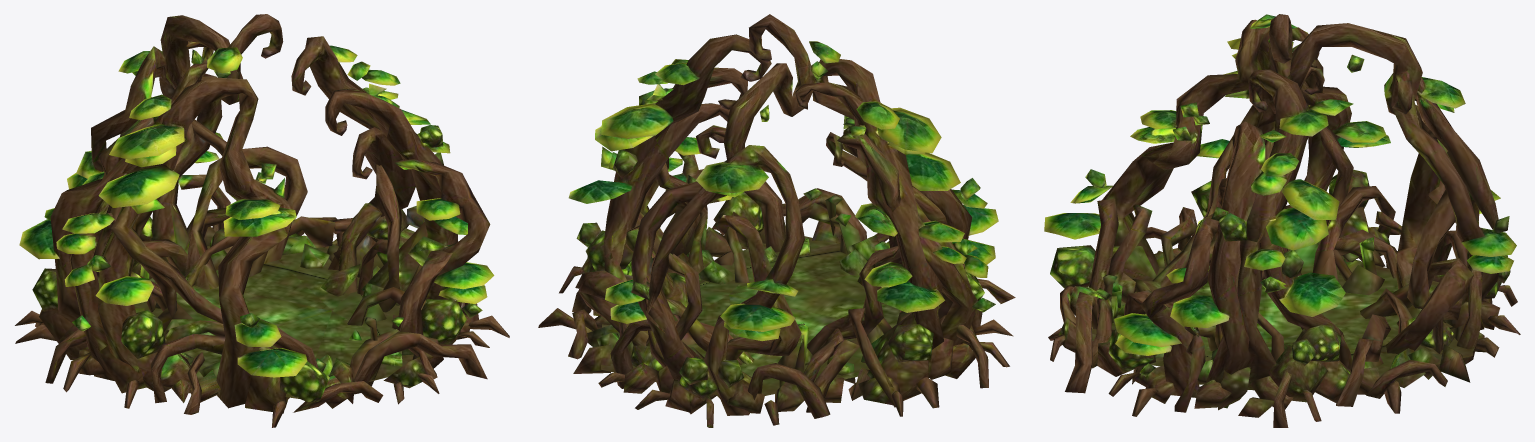
File: cage-2.glb
3 views of the same model, side by side, from view 1: azimuth 30°, elevation 25°; view 2: azimuth 150°, elevation 25°; view 3: azimuth 270°, elevation 25° (orthographic).
Size of the model in its own units: 2 by 1.53 by 2.
Materials: 1 (1 with a texture image).
